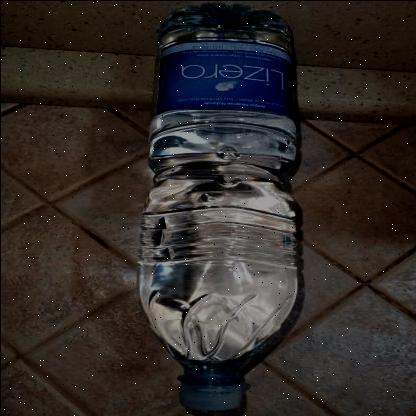Plastic Bottle: (137, 4, 303, 416)
